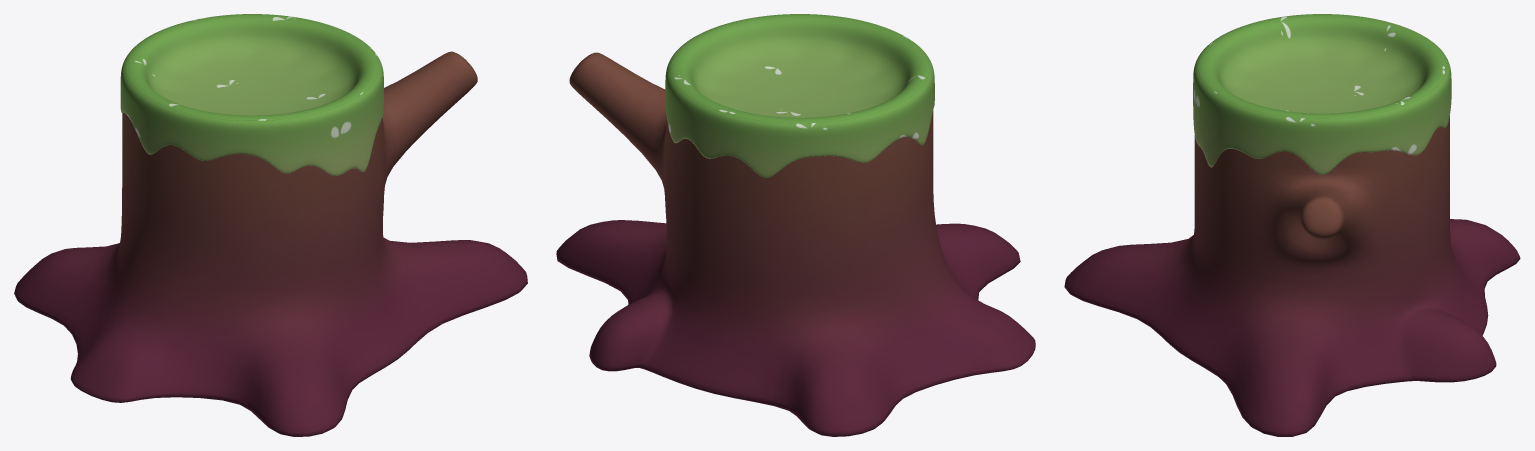
File: TreeStump.fbx
The picture shows the model from 3 angles, left to right: view 1: azimuth 30°, elevation 25°; view 2: azimuth 150°, elevation 25°; view 3: azimuth 270°, elevation 25°; orthographic projection. The views are drawn at different scales.
Visible parts, largest first — view 1: 柱体, 柱体.001; view 2: 柱体, 柱体.001; view 3: 柱体, 柱体.001.
Part boxes in pixels (x1=…): 柱体: x1=14, y1=51, x2=527, y2=436; 柱体.001: x1=120, y1=14, x2=383, y2=175; 柱体: x1=556, y1=52, x2=1035, y2=436; 柱体.001: x1=665, y1=14, x2=934, y2=177; 柱体: x1=1064, y1=115, x2=1520, y2=436; 柱体.001: x1=1193, y1=14, x2=1451, y2=174.
Bounding box in the file's own units: 236 × 263 × 146.
